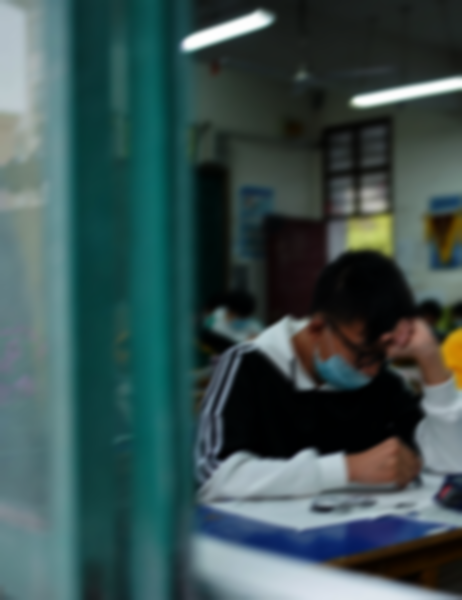mask_weared_incorrect: (315, 254, 403, 391)
